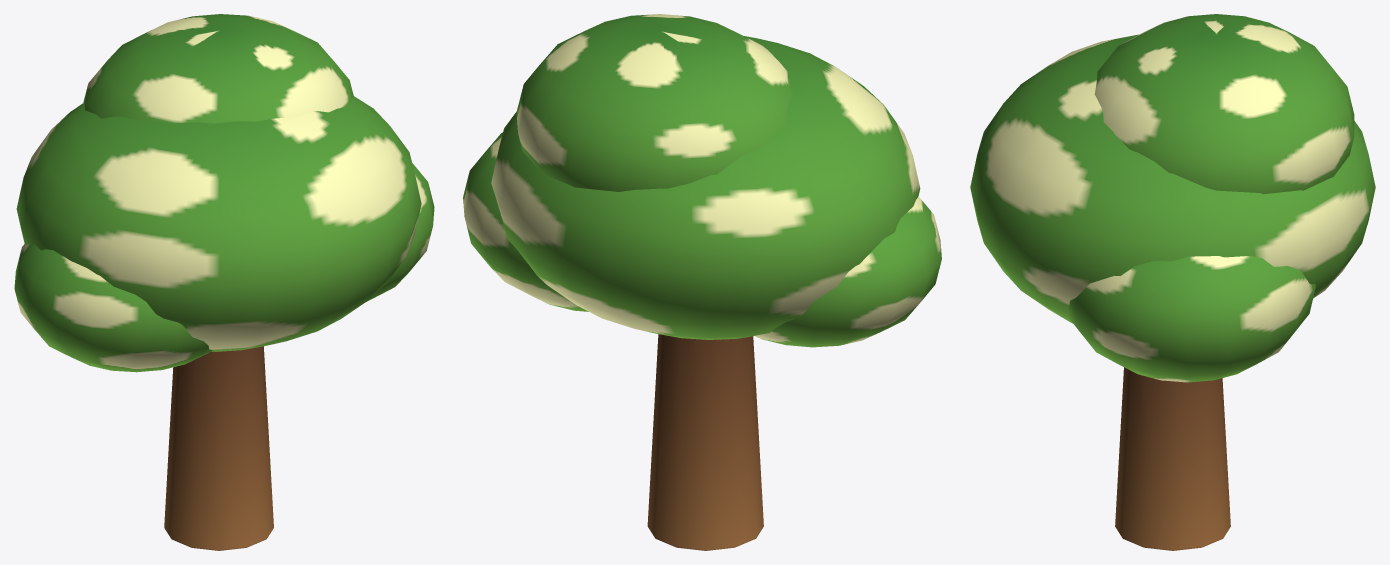
File: soft_tree.obj
3 views of the same model, side by side, from view 1: azimuth 30°, elevation 25°; view 2: azimuth 150°, elevation 25°; view 3: azimuth 270°, elevation 25° (orthographic). The views are drawn at different scales.
Visible parts, largest first — view 1: soft_tree; view 2: soft_tree; view 3: soft_tree.
Boxes of the visible parts, x1,y1,x2,y2 form: soft_tree: [14, 14, 434, 550]; soft_tree: [463, 14, 941, 550]; soft_tree: [970, 14, 1375, 550].
Bounding box in the file's own units: 2.06 × 2.3 × 1.68.
Materials: 2 (2 with a texture image).
